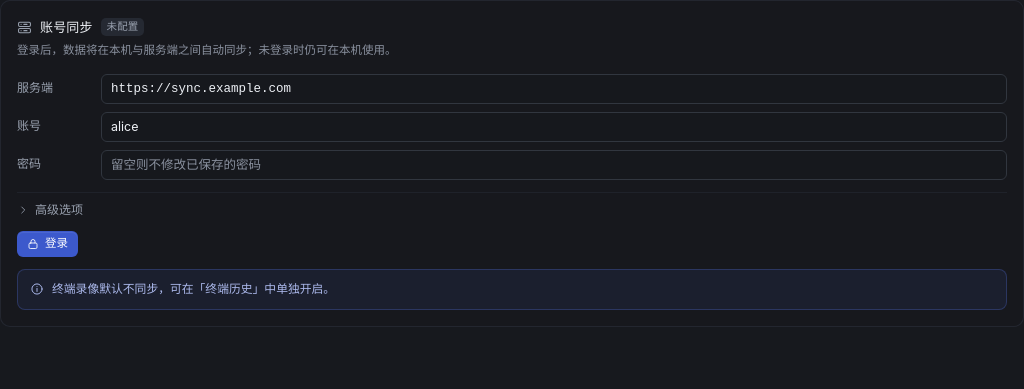
it: SyncCard desktop states › repopulates the saved link URL, username, and insecure setting while keeping the password blank
Expected: the field with id "sync-url" holds "https://sync.example.com", x1=101 y1=74 x2=1007 y2=104
Expected: the field with id "sync-user" holds "alice", x1=101 y1=112 x2=1007 y2=142
Click the button "高级选项": (50, 210) x1=17 y1=200 x2=83 y2=219
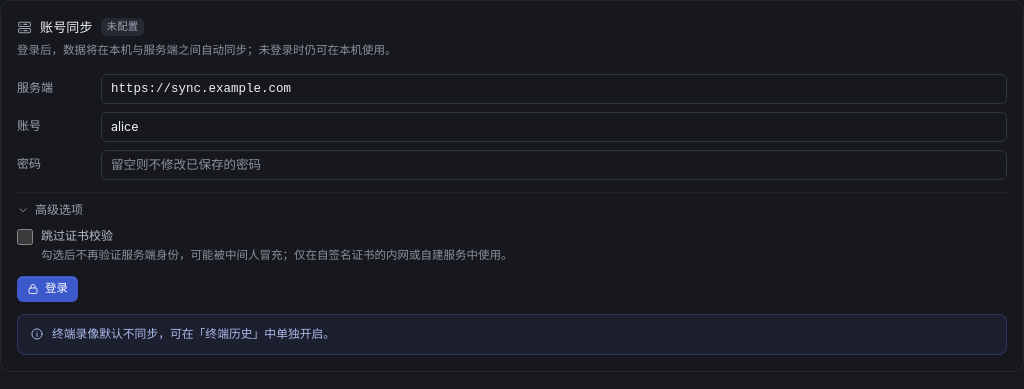
Expected: the checkbox labelled "跳过证书校验 勾选后不再验证服务端身份，可能被中间人冒充；仅在自签名证书的内网或自建服务中使用。" is not checked, x1=17 y1=229 x2=33 y2=245
